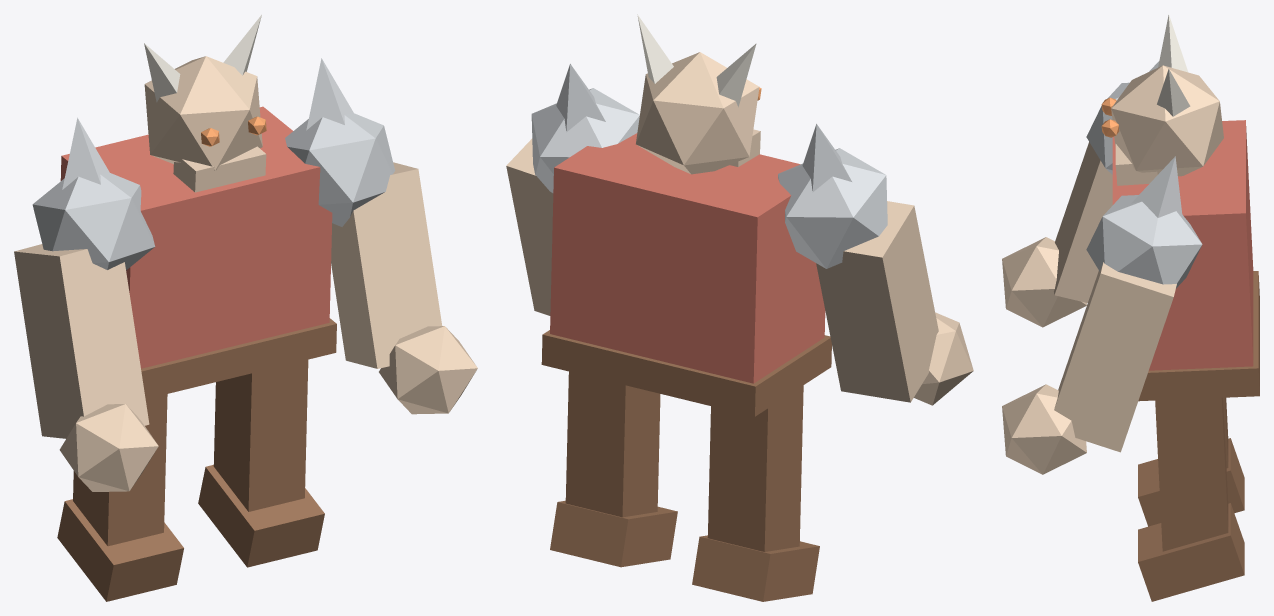
Rendered from npcpose_brute_attack_14.glb.
3 views of the same model, side by side, from view 1: azimuth 30°, elevation 25°; view 2: azimuth 150°, elevation 25°; view 3: azimuth 270°, elevation 25° (orthographic). The views are drawn at different scales.
Visible parts, largest first — view 1: npcpose; view 2: npcpose; view 3: npcpose.
Part boxes in pixels (x1,y1,x2,y2): npcpose: [14, 14, 477, 601]; npcpose: [506, 14, 973, 601]; npcpose: [1002, 14, 1259, 601].
Bounding box in the file's own units: 1.43 × 1.85 × 0.8454.
